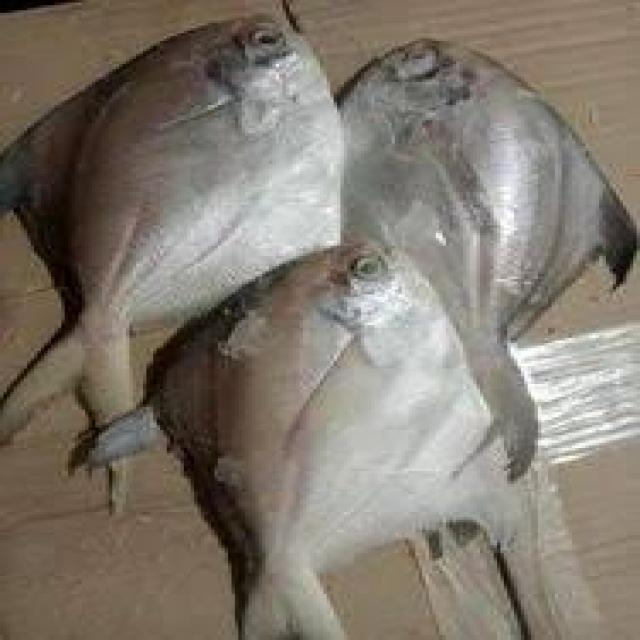pomfred: (0, 15, 348, 502)
